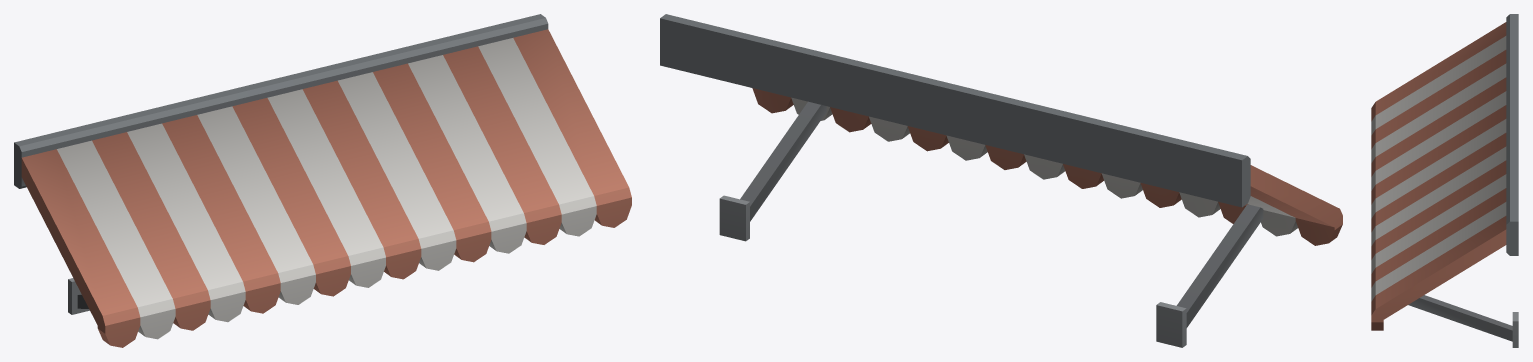
File: awning.glb
3 renders of one model, left to right at view 1: azimuth 30°, elevation 25°; view 2: azimuth 150°, elevation 25°; view 3: azimuth 270°, elevation 25°, orthographic. The views are drawn at different scales.
Visible parts, largest first — view 1: awning; view 2: awning; view 3: awning.
Part boxes in pixels (x1,y1,x2,y2): awning: [14, 14, 631, 347]; awning: [660, 14, 1342, 347]; awning: [1371, 14, 1518, 347].
Size of the model in its own units: 4 by 1.33 by 1.2.
